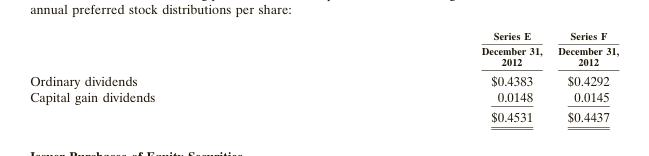table: (29, 28, 618, 124)
table column: (29, 28, 317, 124), (317, 28, 549, 124), (549, 28, 618, 124)
table column header: (29, 28, 618, 69)
table row: (29, 28, 618, 69), (29, 69, 618, 88), (29, 88, 618, 106), (29, 106, 618, 124)
